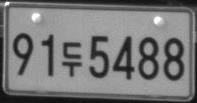1: (39, 33, 60, 76)
4: (111, 35, 135, 80)
5: (88, 35, 110, 78)
8: (137, 36, 159, 80), (163, 37, 185, 81)
9: (12, 31, 33, 74)
두: (62, 41, 83, 77)
